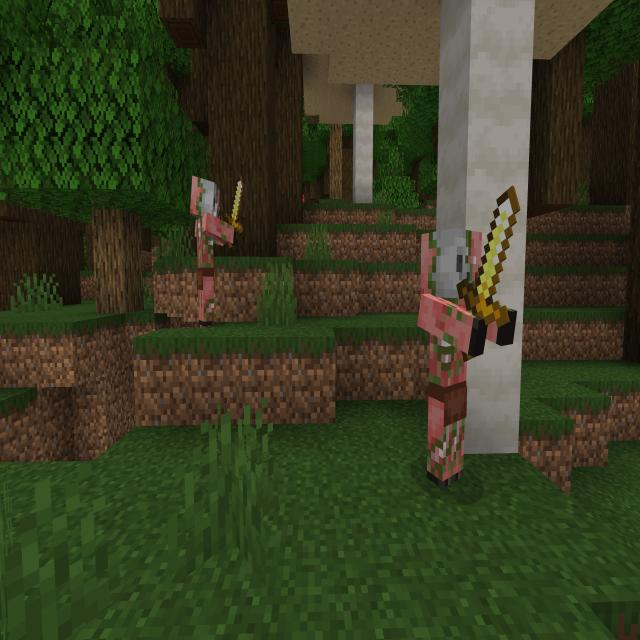Zombified Piglin: (418, 183, 521, 490), (189, 171, 245, 328)
